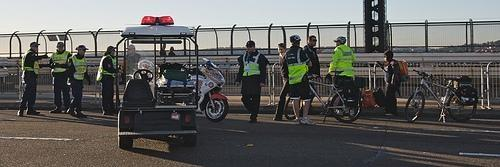bicycle: (404, 68, 478, 124)
motorcycle: (198, 56, 229, 122)
